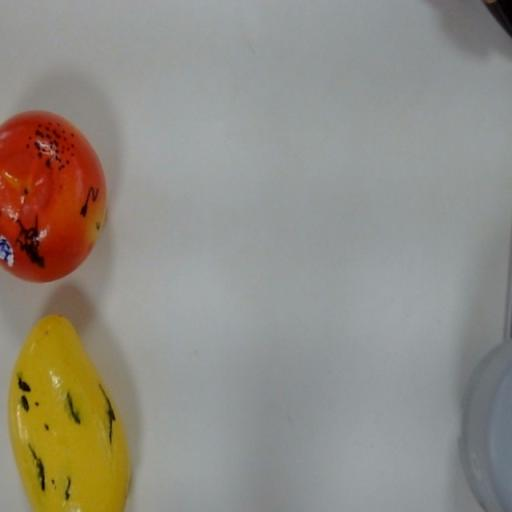Defective: (4, 306, 156, 512), (2, 100, 120, 302)
